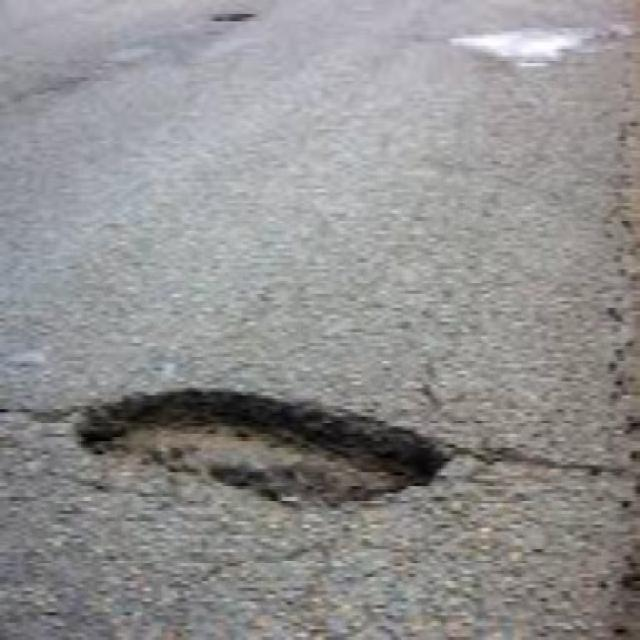Pothole: (65, 379, 451, 526)
